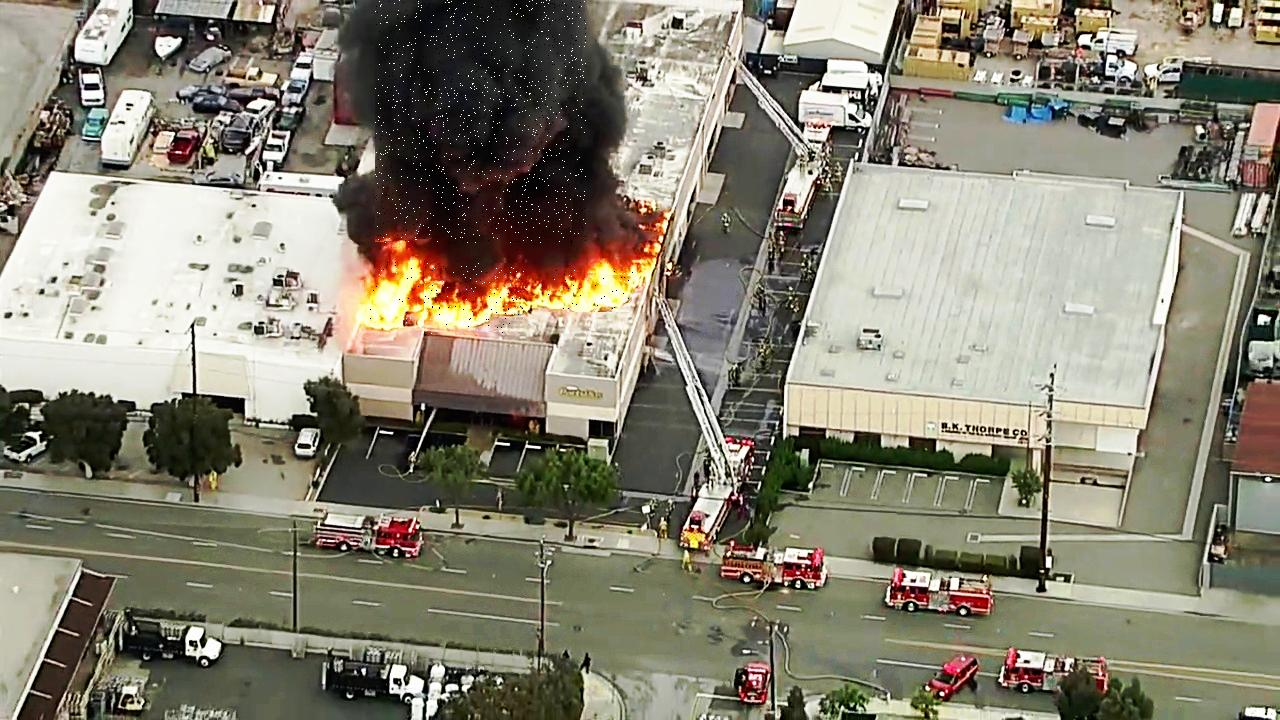fire: (425, 264, 527, 335), (547, 269, 634, 312), (370, 262, 419, 327)
smoke: (375, 0, 586, 243)
